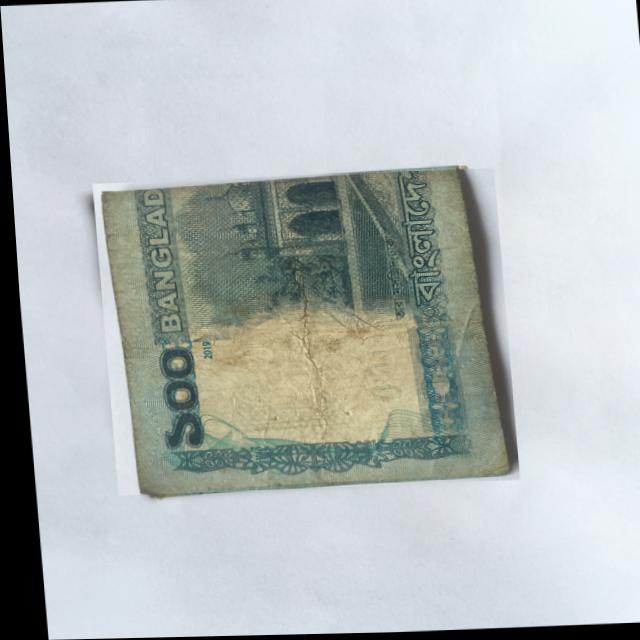Taka: (90, 169, 514, 496)
